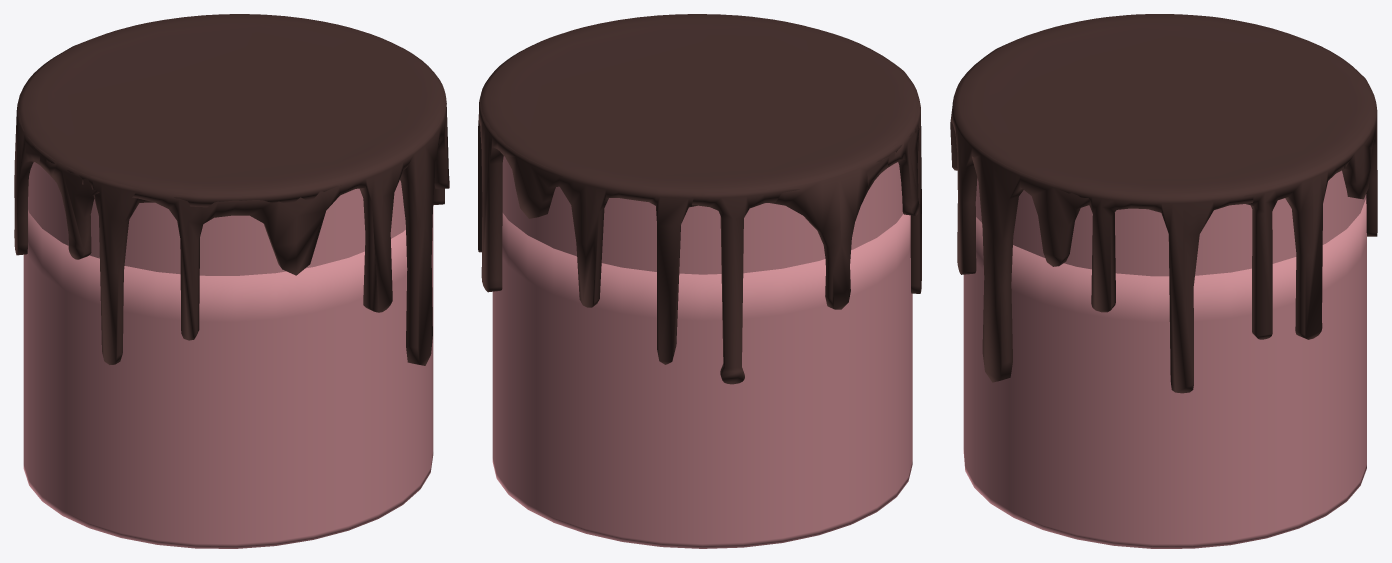
File: 1-tier-blush-ganache-none.glb
3 renders of one model, left to right at view 1: azimuth 30°, elevation 25°; view 2: azimuth 150°, elevation 25°; view 3: azimuth 270°, elevation 25°, orthographic.
Visible parts, largest first — view 1: Cylinder.019, tHE ICING; view 2: Cylinder.019, tHE ICING; view 3: Cylinder.019, tHE ICING.
Part boxes in pixels (<box>): Cylinder.019: <box>23,162,433,548</box>; tHE ICING: <box>14,14,449,365</box>; Cylinder.019: <box>492,156,912,548</box>; tHE ICING: <box>478,14,921,384</box>; Cylinder.019: <box>963,170,1366,548</box>; tHE ICING: <box>950,14,1377,393</box>.
Size of the model in its own units: 2.8 by 2.52 by 2.71.
